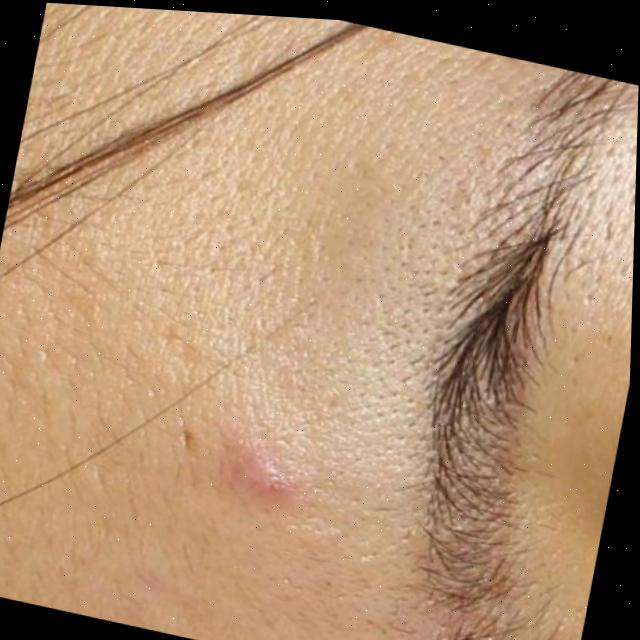Acne: (165, 396, 350, 540)
